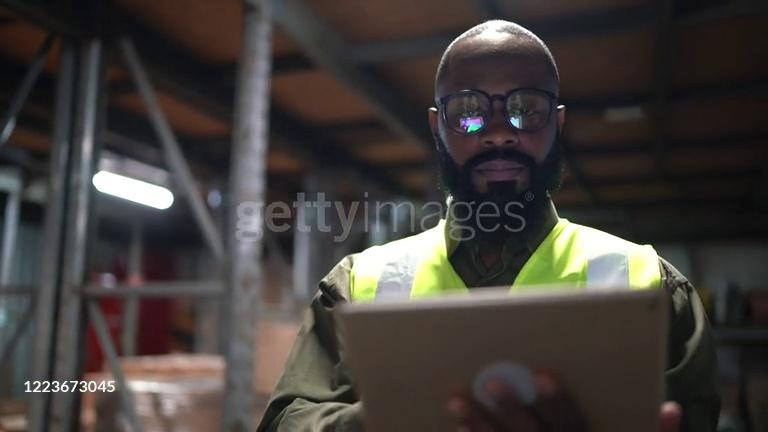person: (256, 19, 723, 432)
